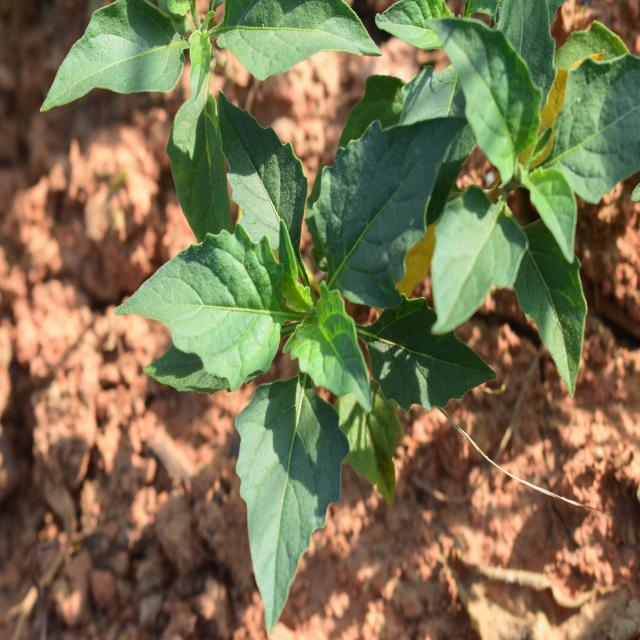Black_nightshade: (168, 105, 466, 572), (447, 1, 630, 361), (49, 15, 403, 144)
